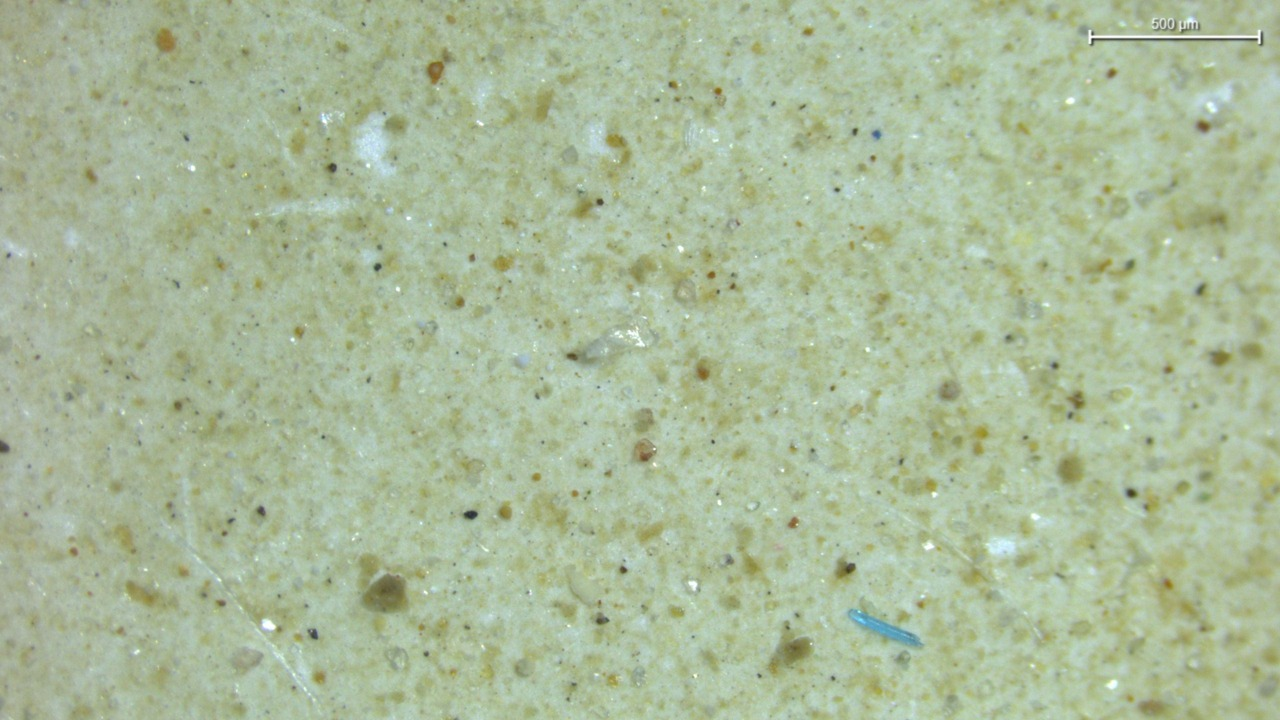microplastic_fragment: (572, 317, 655, 364), (565, 565, 602, 604)
